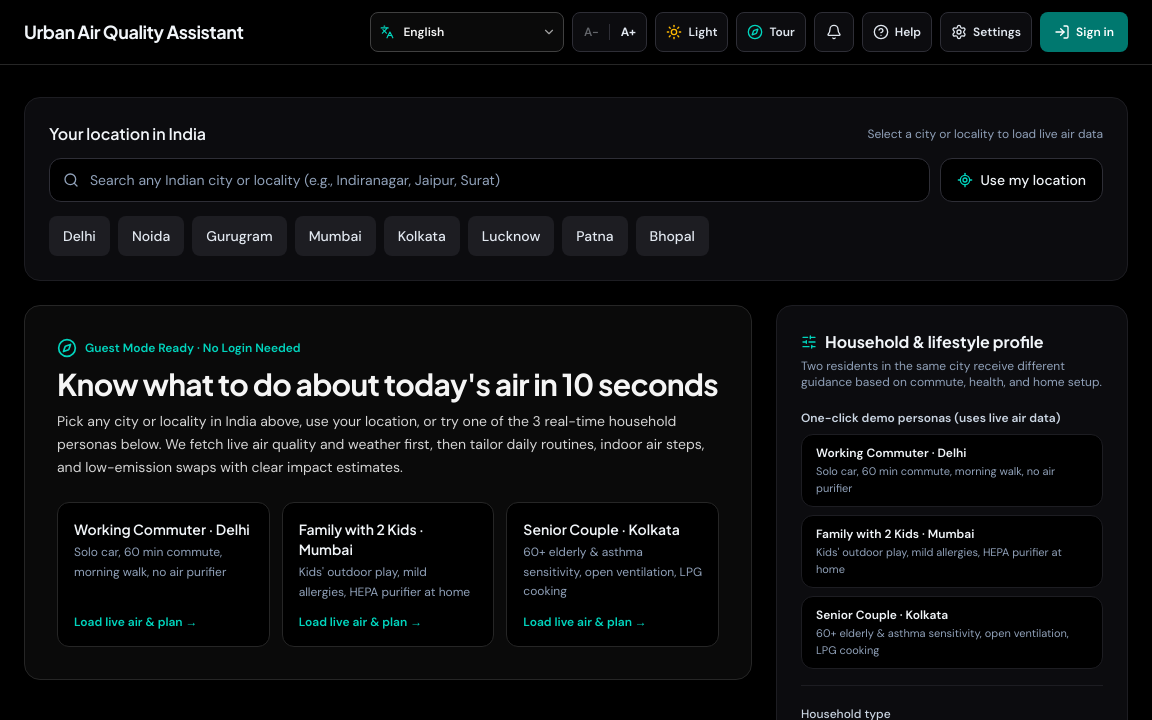
Top toolbar controls (Regional Languages, Black Default Theme, Font Size, Coachmark Tour) & Separate Login Page › defaults to black/dark theme and toggles to Light and back to Dark, plus increases/decreases font size
Later steps or results of the test are not shown.
Click the button with aria-label "Switch to light theme": (692, 32) left=655, top=12, right=728, bottom=52
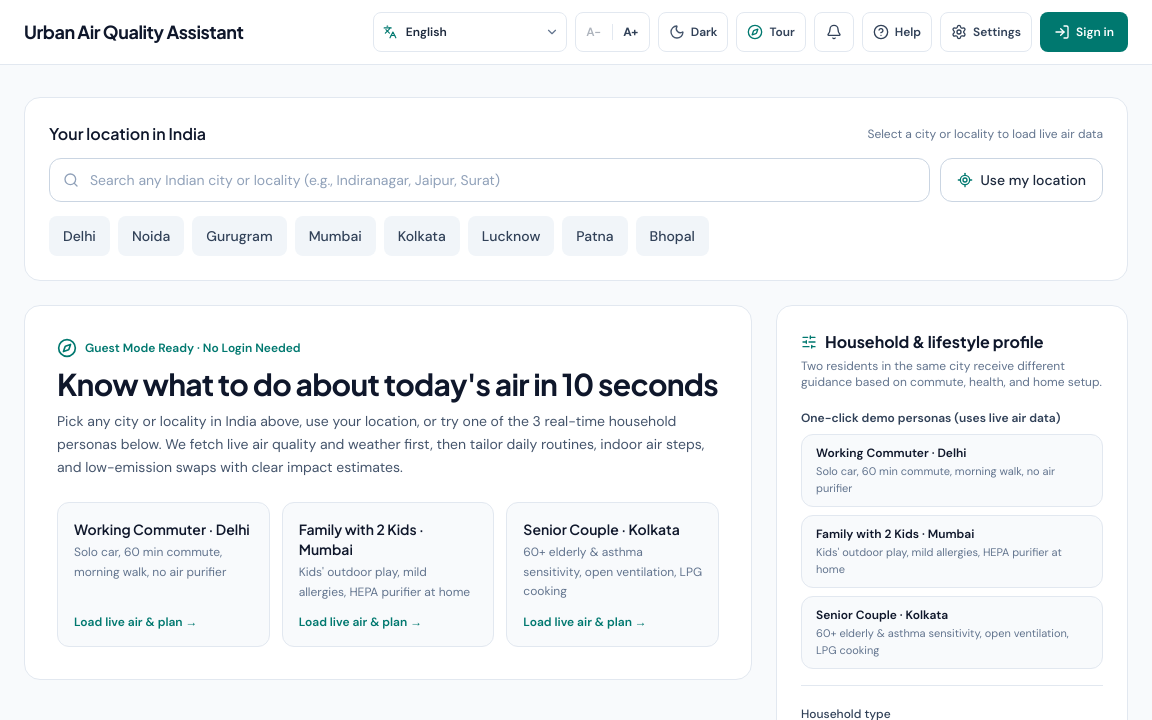
Click the button with aria-label "Switch to dark theme": (693, 32) left=658, top=12, right=728, bottom=52
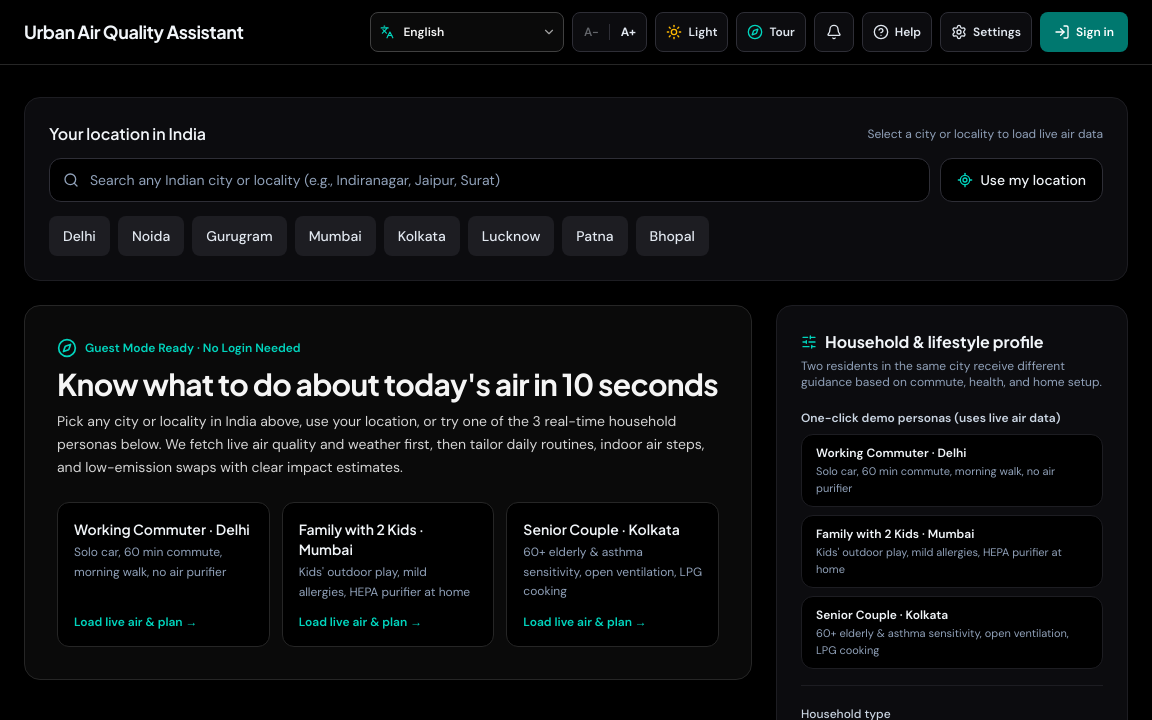
Expected: the button named "Decrease font size" is disabled, left=573, top=13, right=609, bottom=51
Click the button named "Increase font size": (628, 32) left=610, top=13, right=646, bottom=51
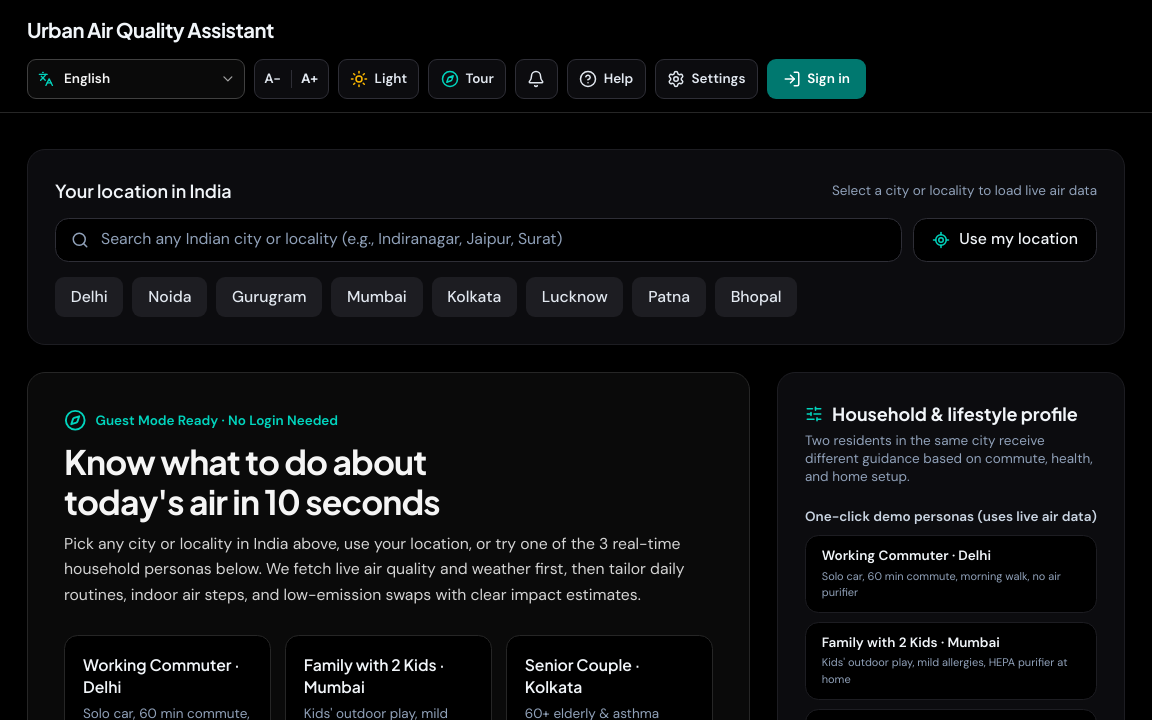
Expected: the button named "Decrease font size" is enabled, left=254, top=60, right=290, bottom=98
Click the button named "Increase font size": (310, 78) left=292, top=60, right=328, bottom=98
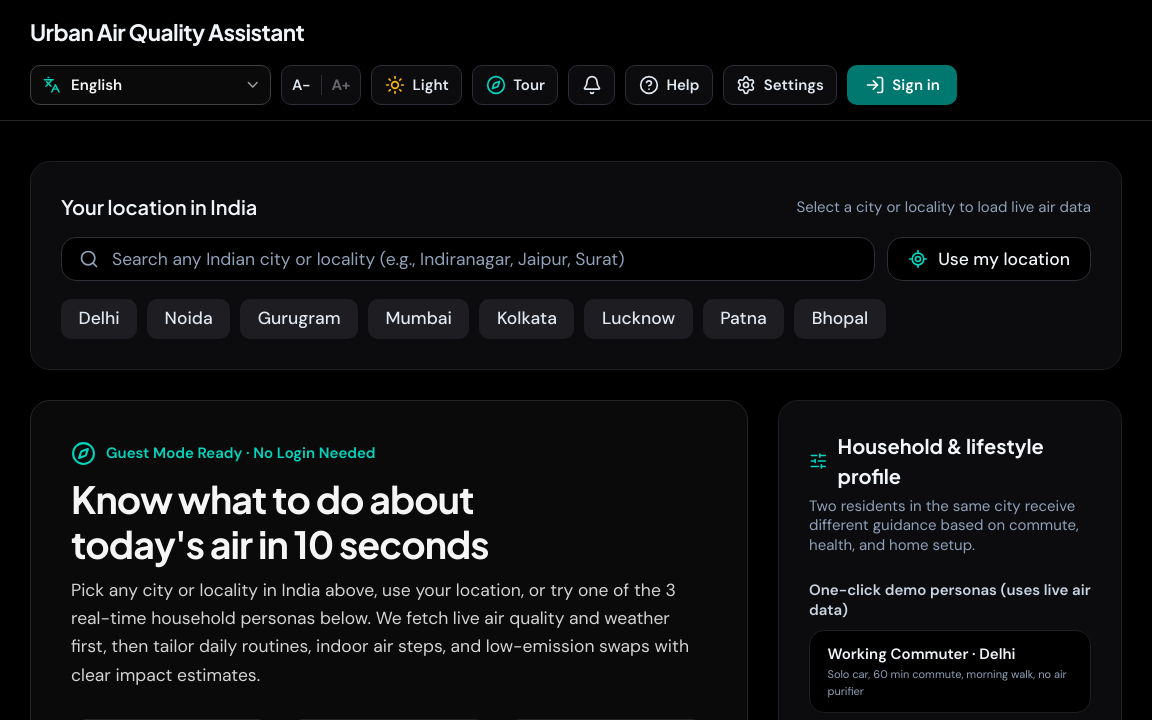
Expected: the button named "Increase font size" is disabled, left=322, top=66, right=360, bottom=104
